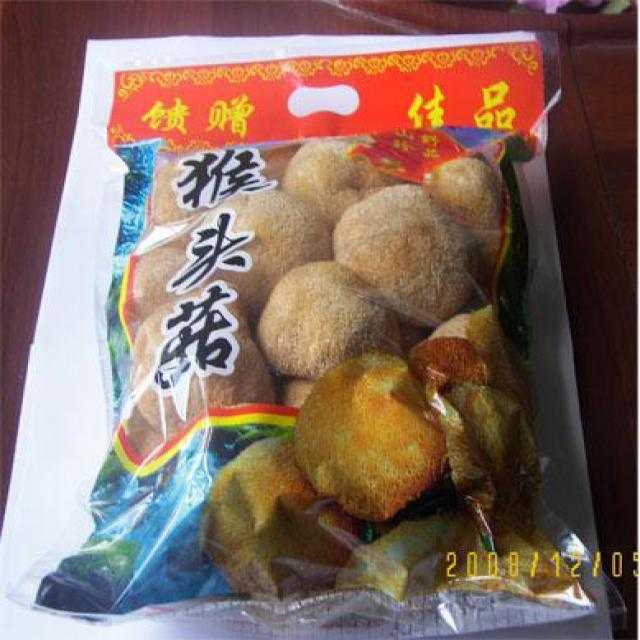Hericium erinaceus: (339, 182, 464, 316), (262, 261, 388, 372), (216, 189, 330, 298)
